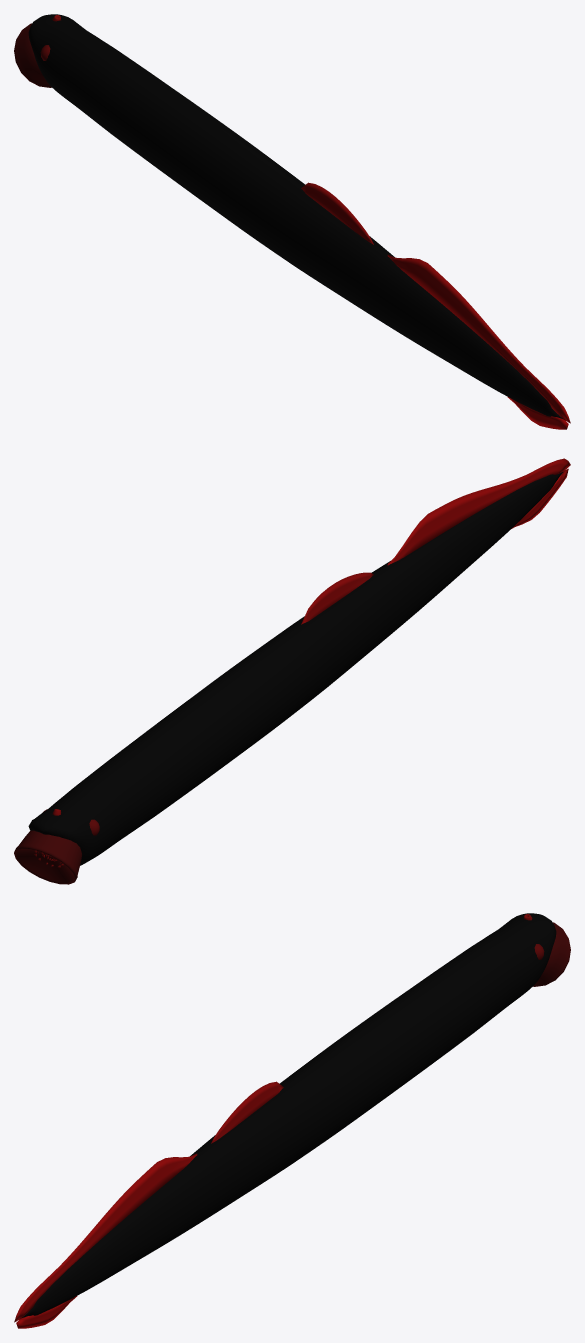
Rendered from lamprey_lo.glb.
3 renders of one model, top to bottom at view 1: azimuth 30°, elevation 25°; view 2: azimuth 150°, elevation 25°; view 3: azimuth 330°, elevation 25°, orthographic.
Visible parts, largest first — view 1: lamprey_lo; view 2: lamprey_lo; view 3: lamprey_lo.
Boxes of the visible parts, x1=… form: lamprey_lo: x1=14, y1=14, x2=570, y2=429; lamprey_lo: x1=14, y1=458, x2=570, y2=884; lamprey_lo: x1=14, y1=913, x2=570, y2=1328.
Bounding box in the file's own units: 0.0451 × 0.0694 × 0.6997.
